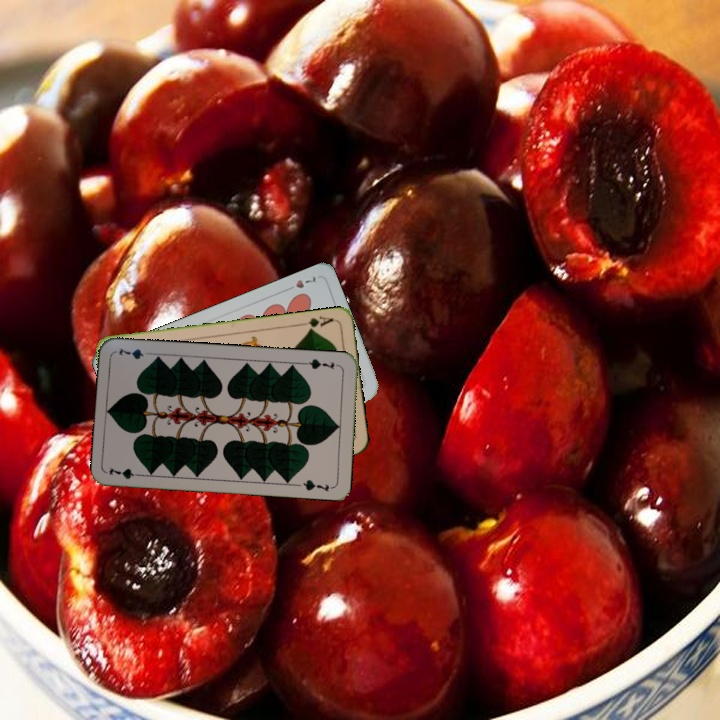G7: (105, 464, 146, 482), (301, 355, 342, 372)
GA: (297, 312, 337, 334)
H7: (281, 271, 319, 294)
